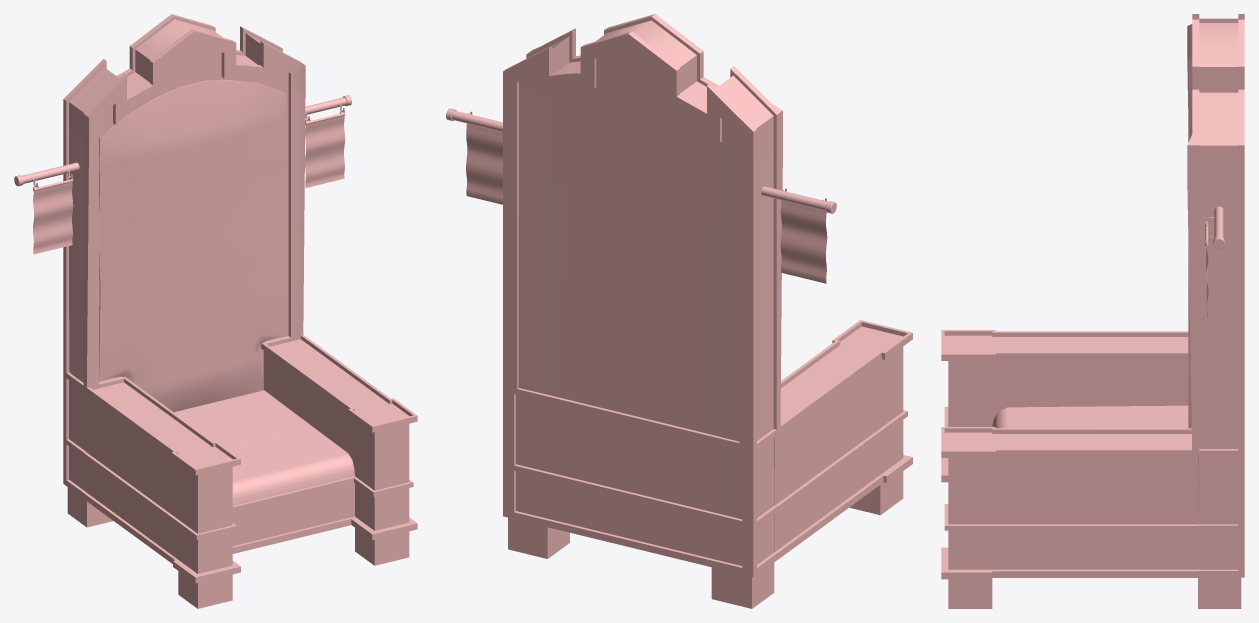
Rendered from Trone.fbx.
3 renders of one model, left to right at view 1: azimuth 30°, elevation 25°; view 2: azimuth 150°, elevation 25°; view 3: azimuth 270°, elevation 25°, orthographic. The views are drawn at different scales.
Visible parts, largest first — view 1: coussin, trone1, rebord_trone, coussin2, parchemin, barreau; view 2: trone1, rebord_trone, parchemin, barreau; view 3: trone1, rebord_trone, coussin2, coussin, barreau.
Boxes of the visible parts, box(x1,y1,x2,y2) form: coussin: box(99, 80, 286, 412); trone1: box(67, 19, 409, 608); rebord_trone: box(63, 14, 417, 583); coussin2: box(174, 390, 354, 505); parchemin: box(33, 115, 345, 254); barreau: box(14, 95, 351, 186); trone1: box(508, 20, 903, 608); rebord_trone: box(503, 14, 912, 577); parchemin: box(466, 123, 827, 283); barreau: box(446, 108, 836, 213); trone1: box(944, 18, 1241, 608); rebord_trone: box(941, 14, 1244, 579); coussin2: box(992, 405, 1188, 428); coussin: box(1188, 86, 1192, 428); barreau: box(1213, 206, 1224, 249).
Bounding box in the file's own units: 3.73 × 5.06 × 2.62.
